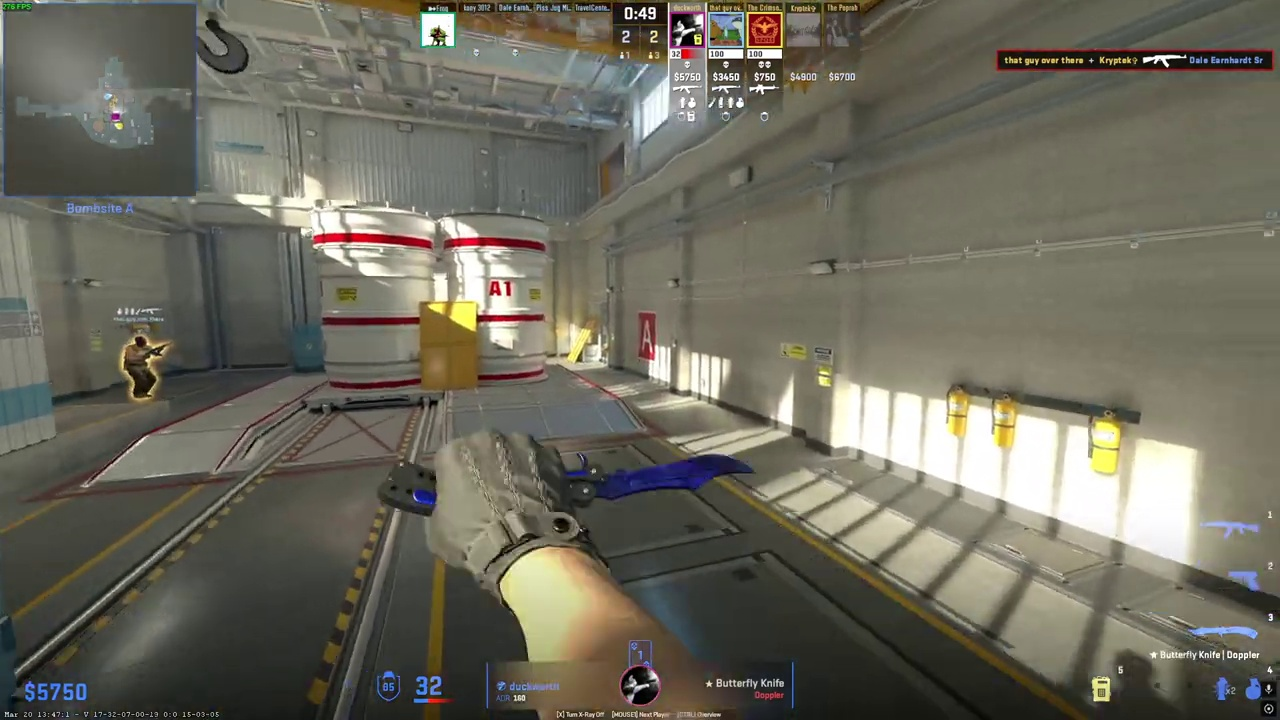Terrorist: (124, 336, 159, 398)
